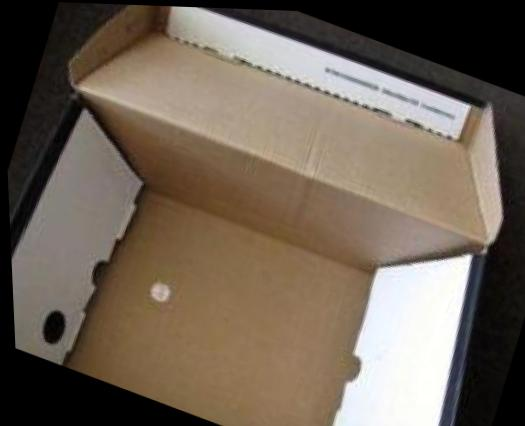cardboard: (0, 0, 524, 425), (334, 239, 524, 425)
